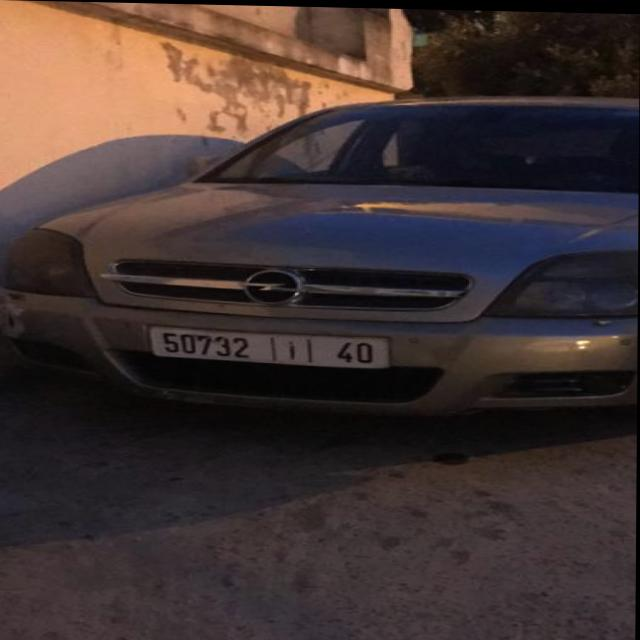License-Plate: (149, 327, 389, 366)
